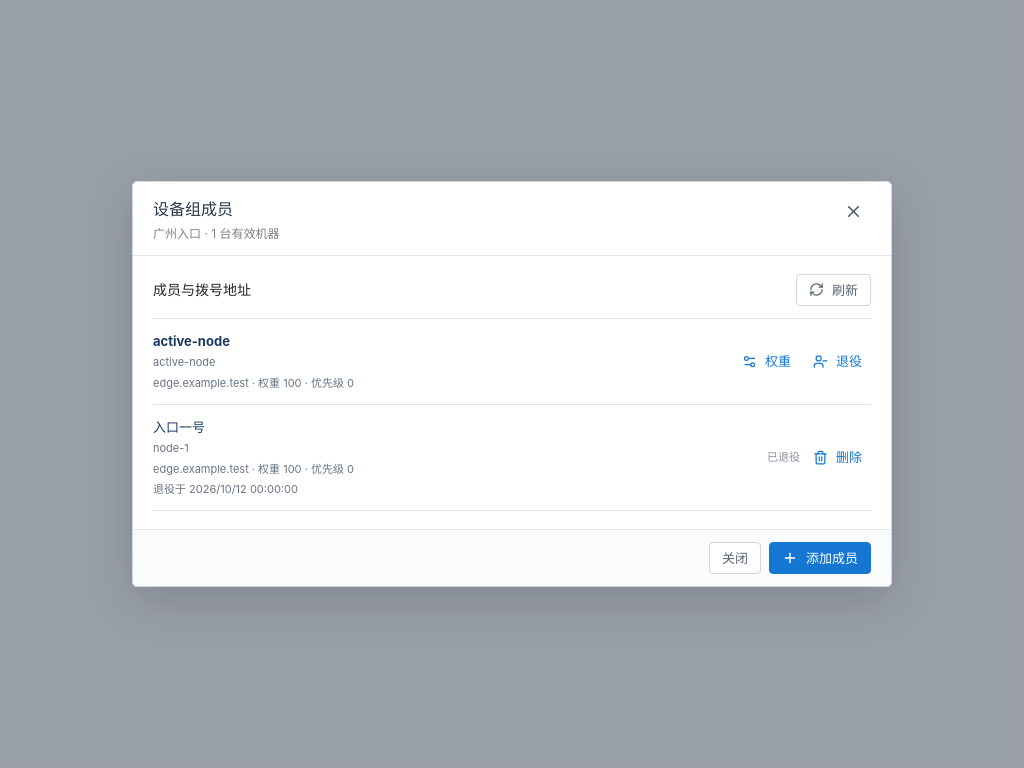
Scenario: GroupMembersDialog › deletes only a confirmed retired membership and removes it from the list
The width and height of the screenshot is (1024, 768).
Click the button with aria-label "删除退役记录 入口一号" at (838, 458), box [804,442,871,472]
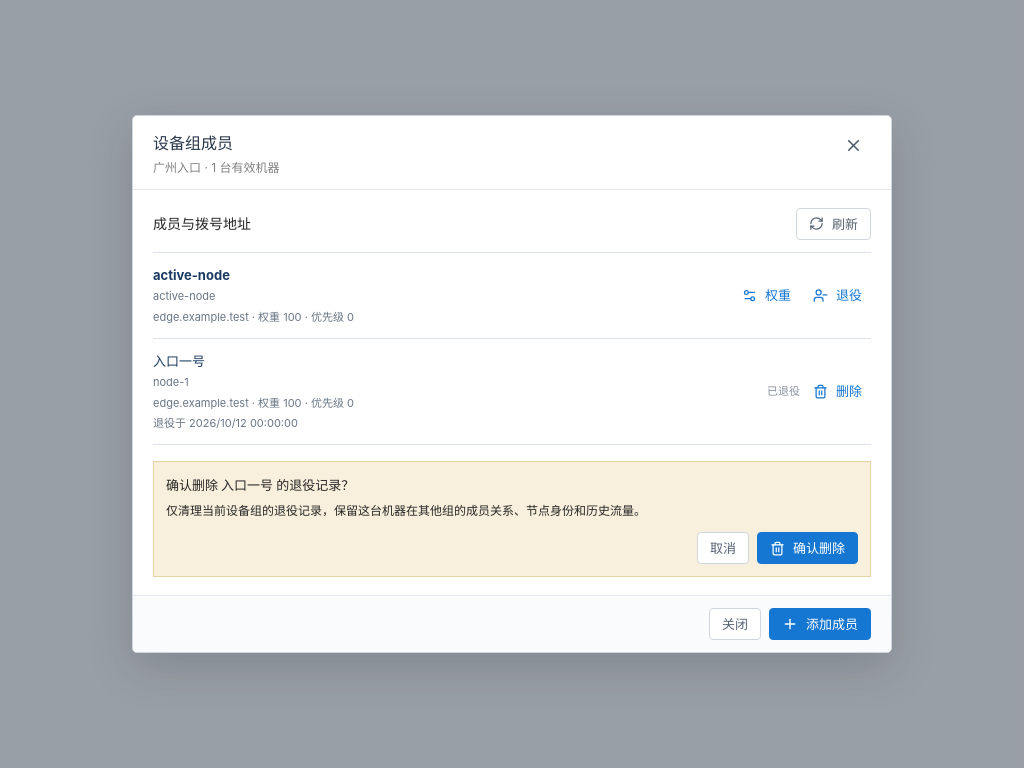
Result: the text "保留这台机器在其他组的成员关系" is shown at [166,503,646,518]
Click the button "确认删除" at (808, 548), box [757,532,858,564]
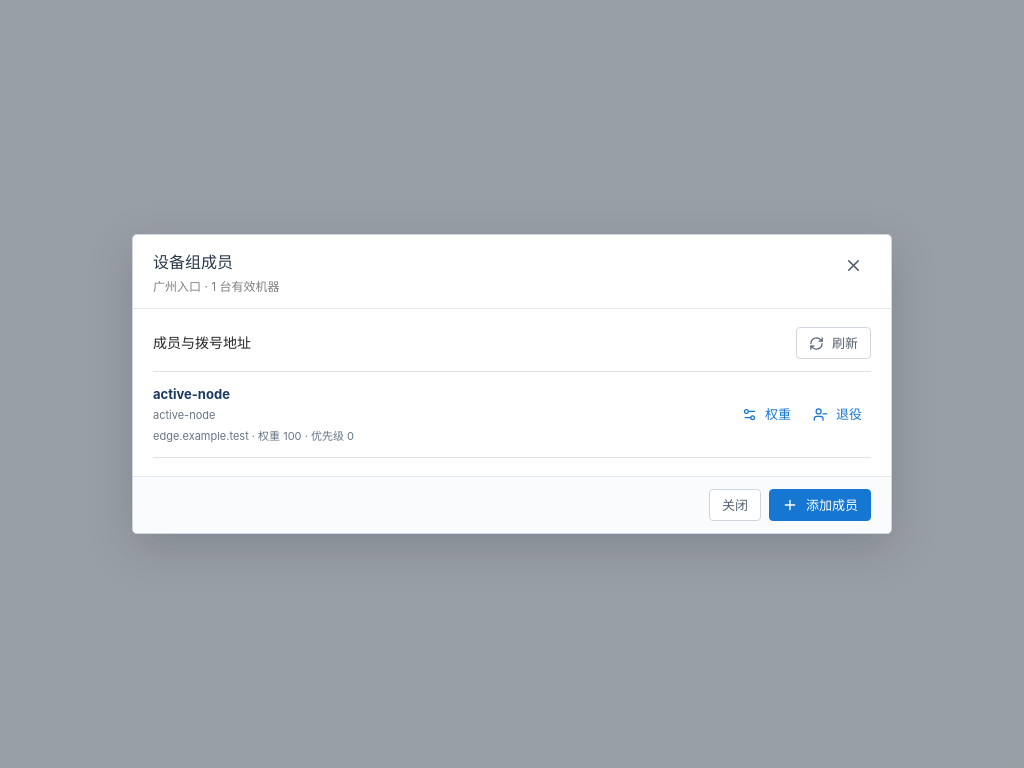
Expected: the text "active-node" is shown, [153,386,230,402]
Result: the text "已退役" is gone
